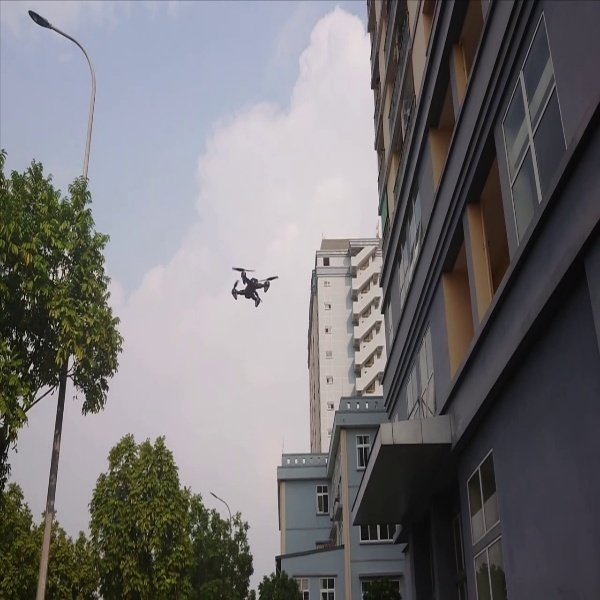drone: (220, 258, 277, 307)
